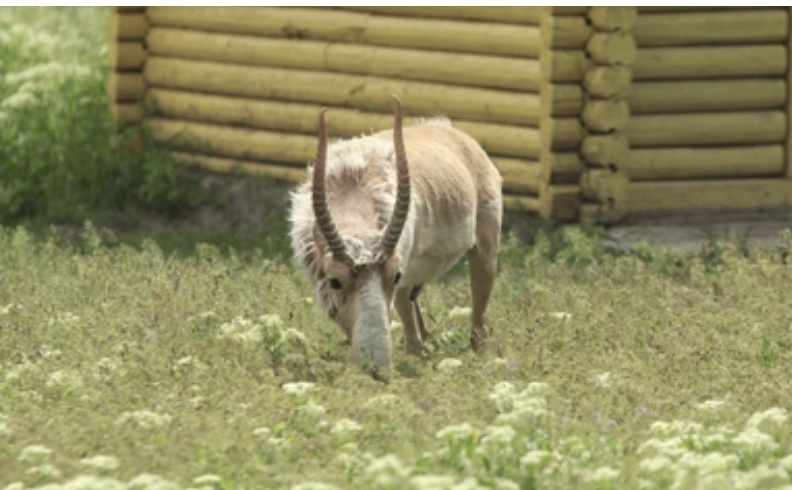saiga: (281, 98, 503, 373)
